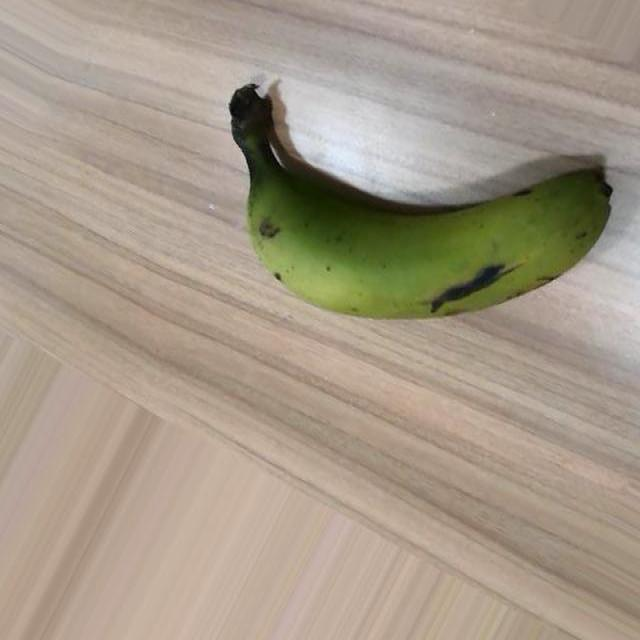Unripe: (227, 83, 615, 321)
